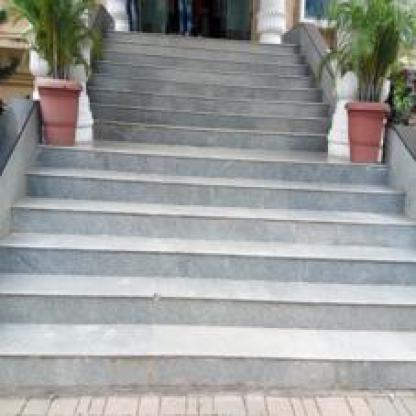stair_up: (6, 189, 400, 400)
